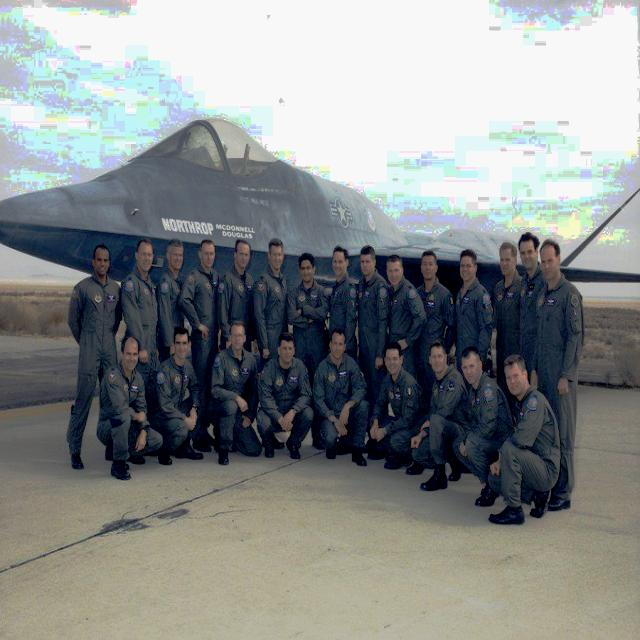Aircraft: (0, 116, 639, 302)
